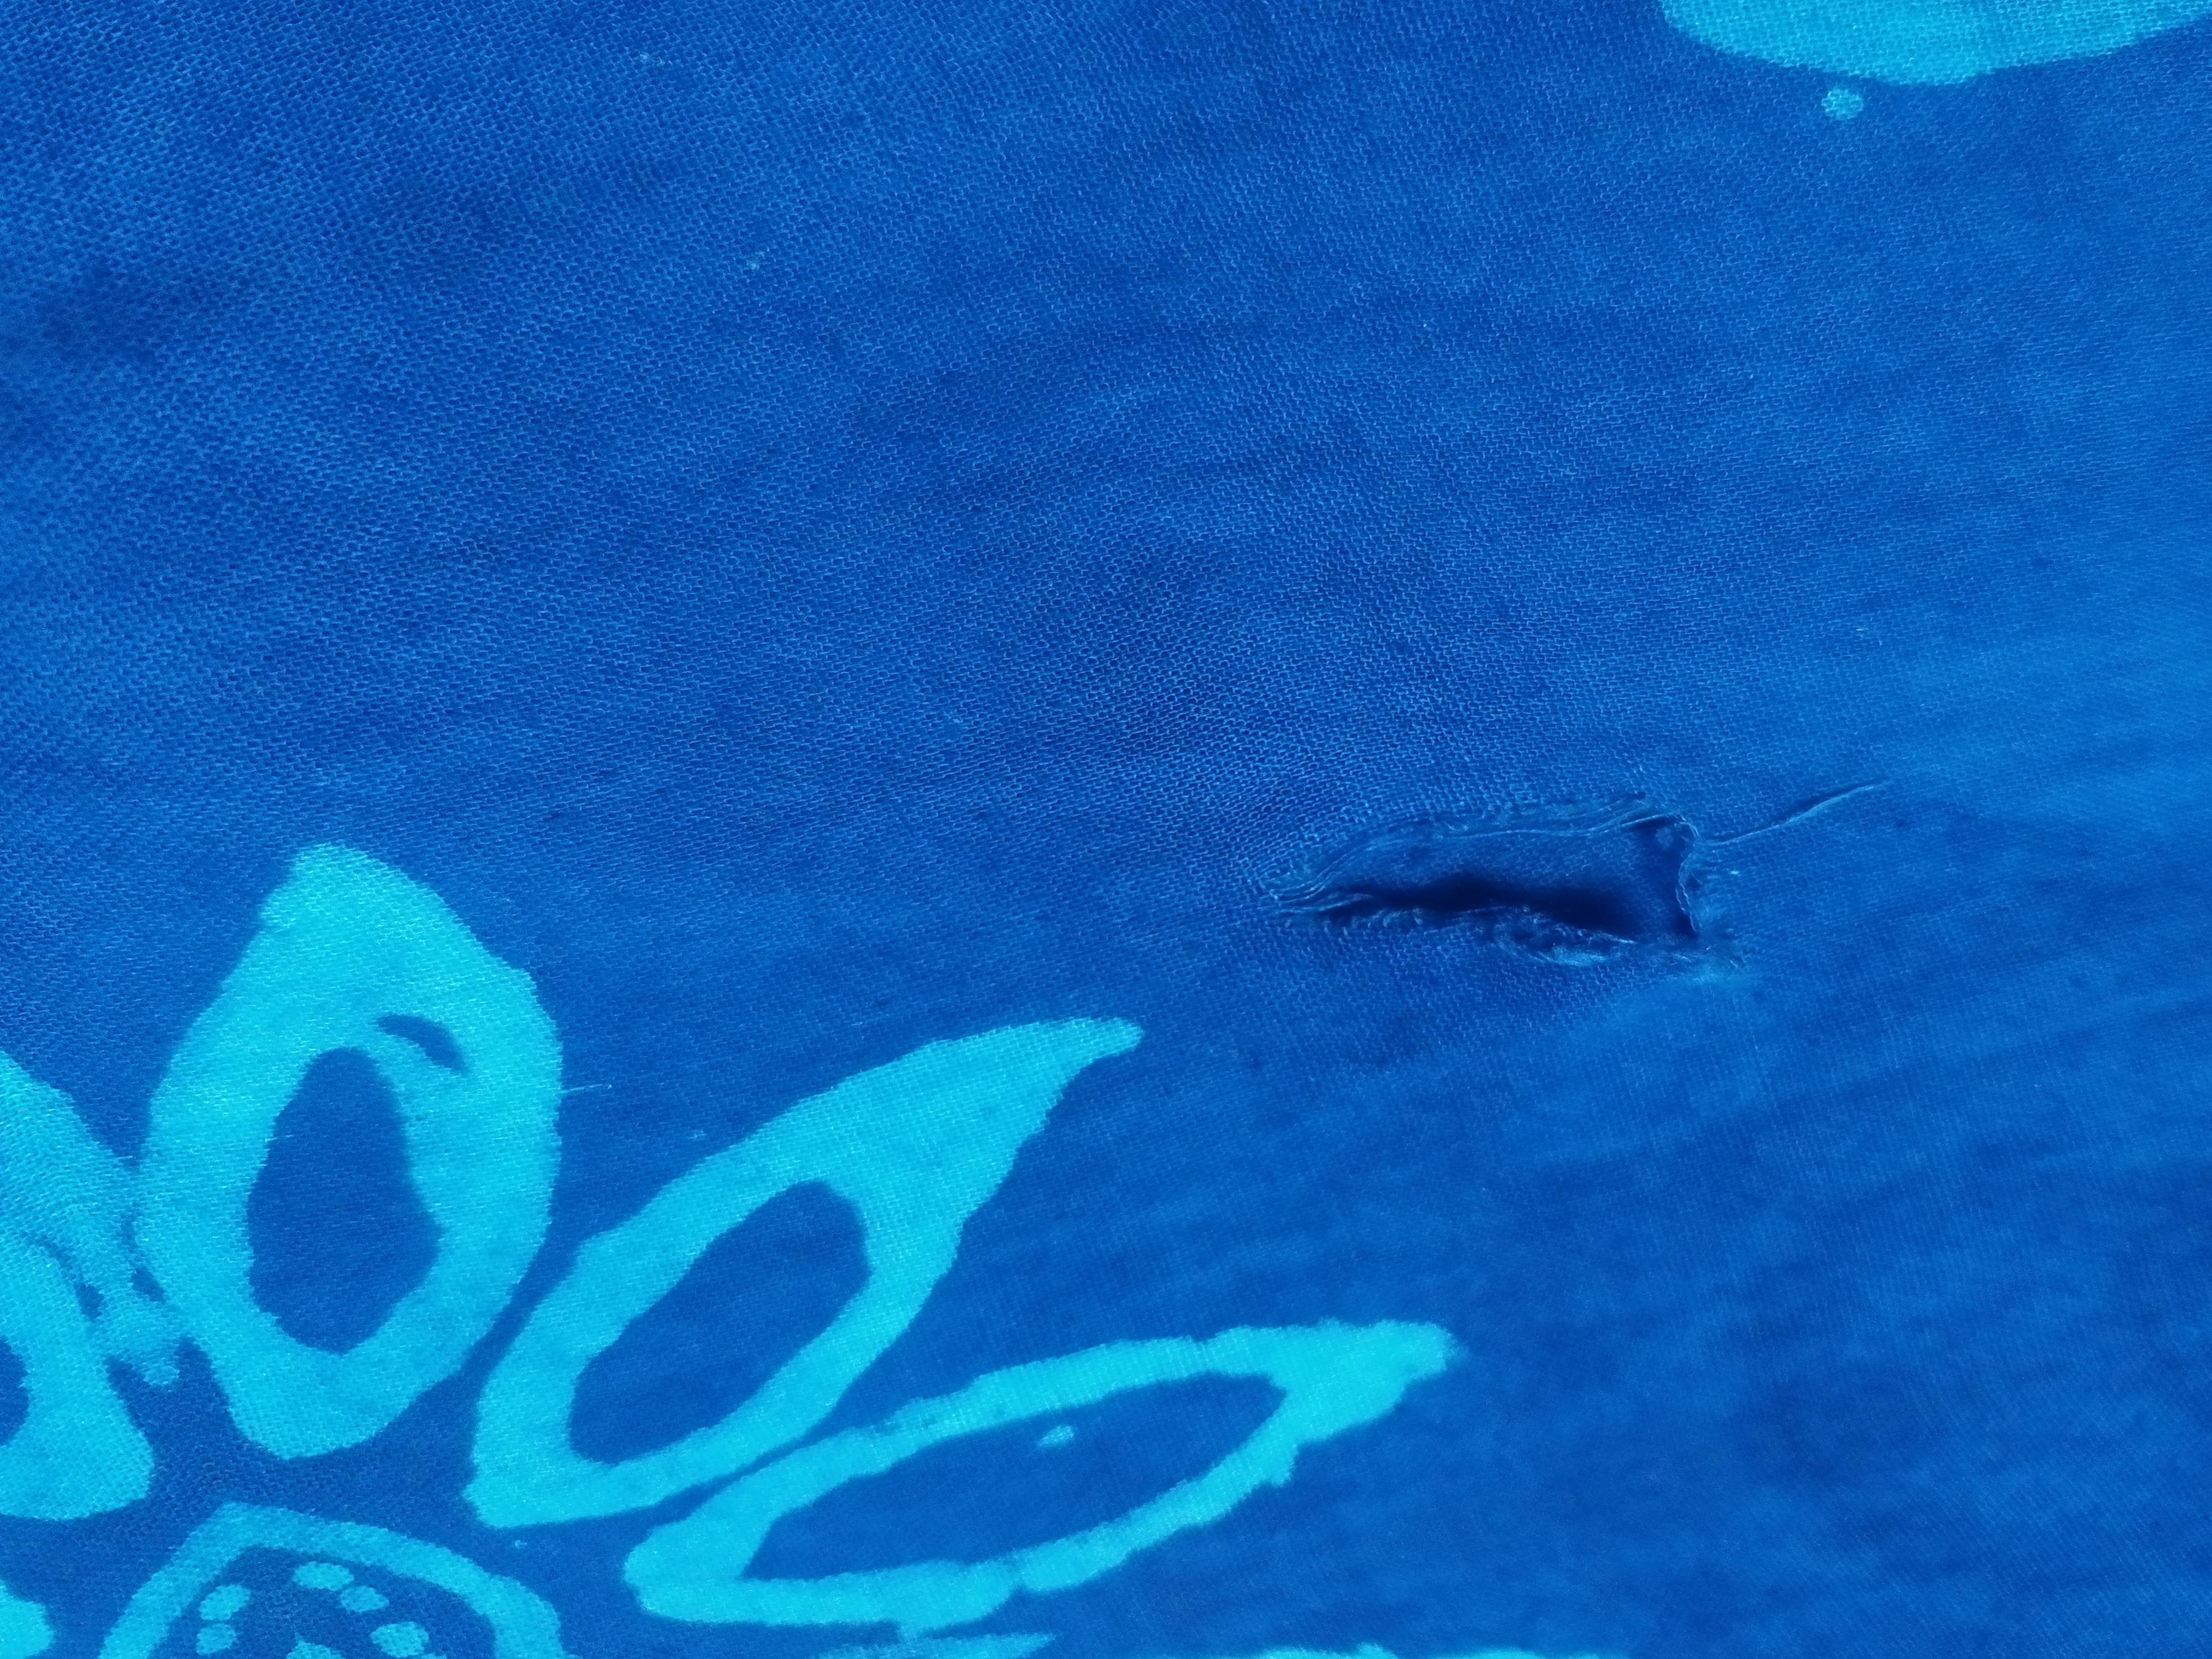hole: (1270, 769, 1792, 1009)
